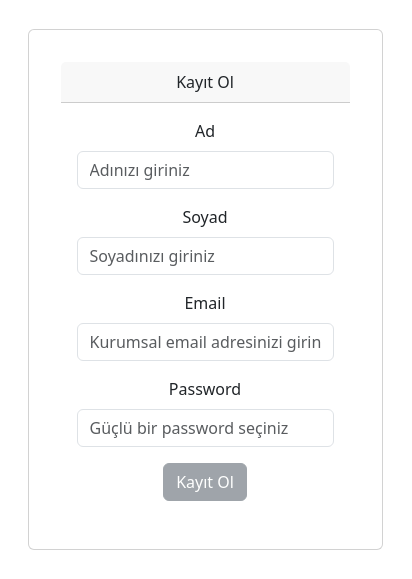
Register Page › Error Messages › Surname input throws error for 2 chars
The width and height of the screenshot is (412, 579).
Step 1. Type "sa" into the field with test id "soyad-input" → [206, 256], box [77,237,334,275]
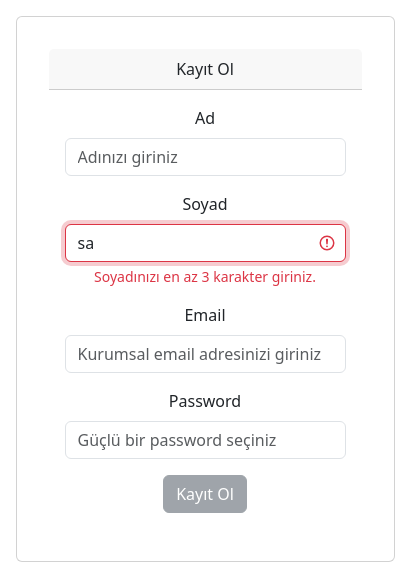
Expected: the text "Soyadınızı en az 3 karakter giriniz." is shown, [94,267,316,286]
